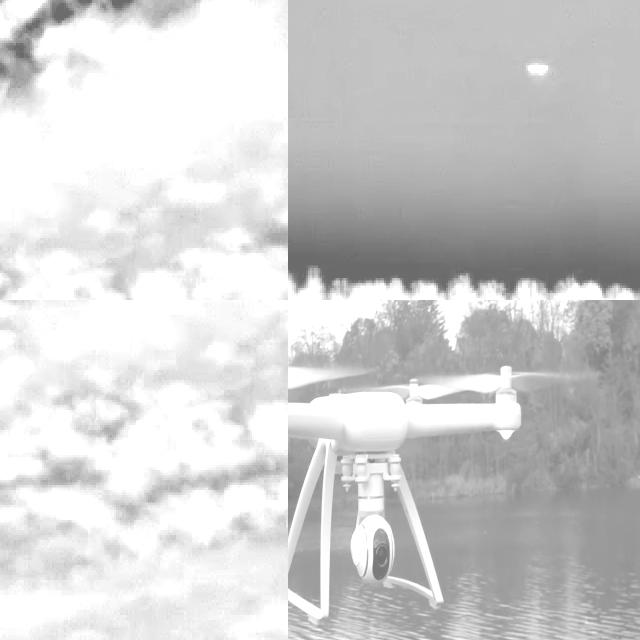1: (514, 56, 558, 88)
drone: (288, 363, 520, 621)
